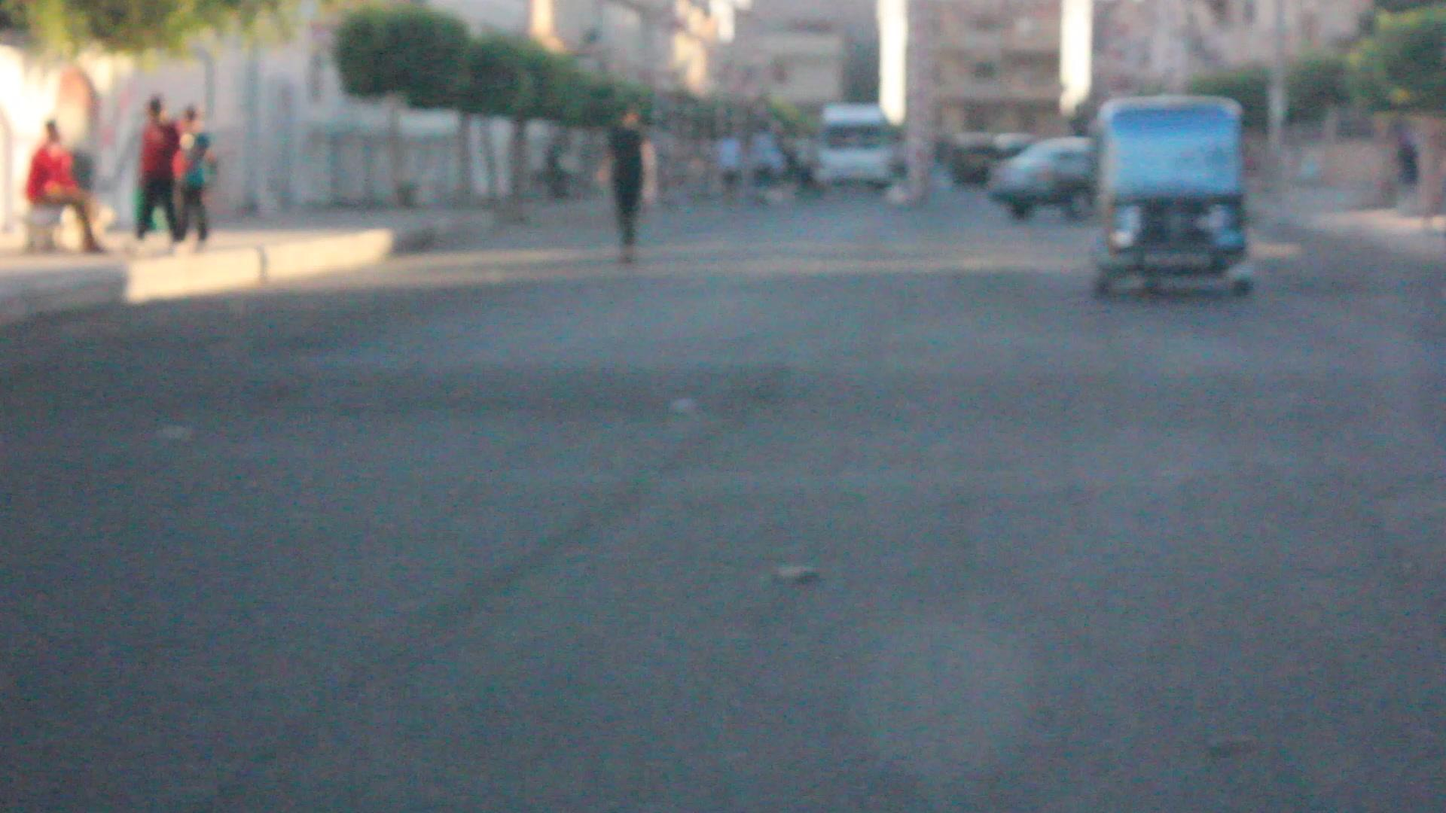Bump: (0, 333, 1446, 455)
